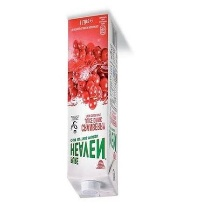carton: (58, 8, 126, 205)
